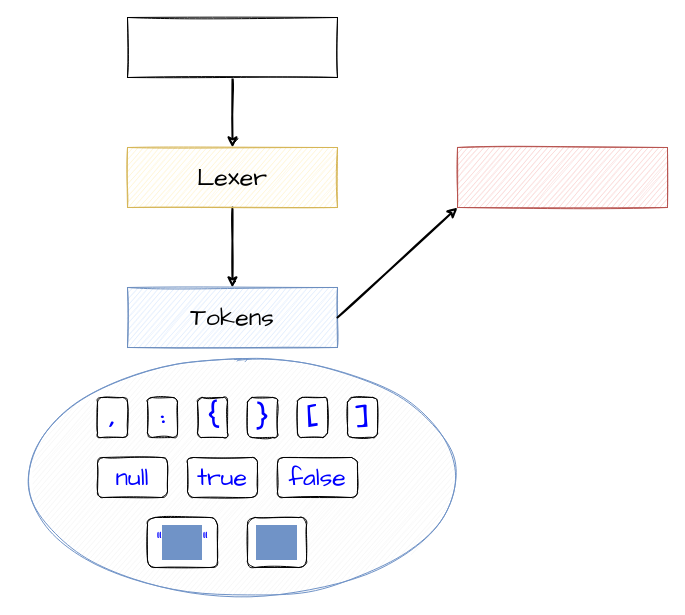
This 685x615 diagram has some shape labels left out. Here are the shapes that lost their labels. From the top down, the box of each, then its label:
(126, 16, 338, 78): Json String
(456, 146, 668, 208): Parser
